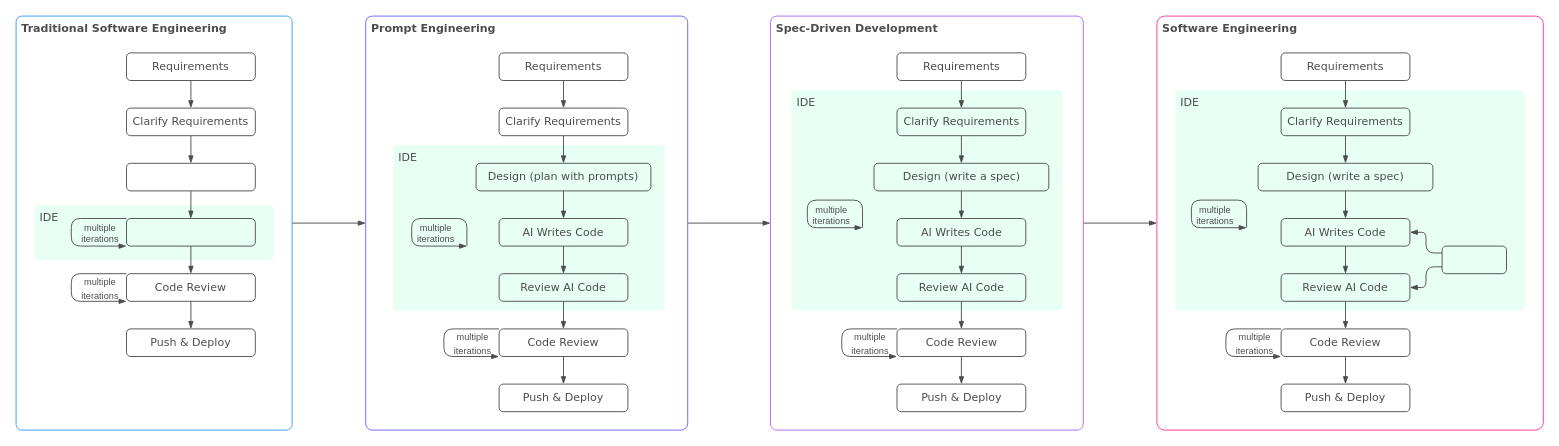
Image size: 1559x446. Some labels were removed from this diagram. The centre of each missing label's shape, as x and y in pixels:
"Coding" goes at point 190,232.
"Design (make a plan)" goes at point 190,176.
"Prompts" goes at point 1473,259.
